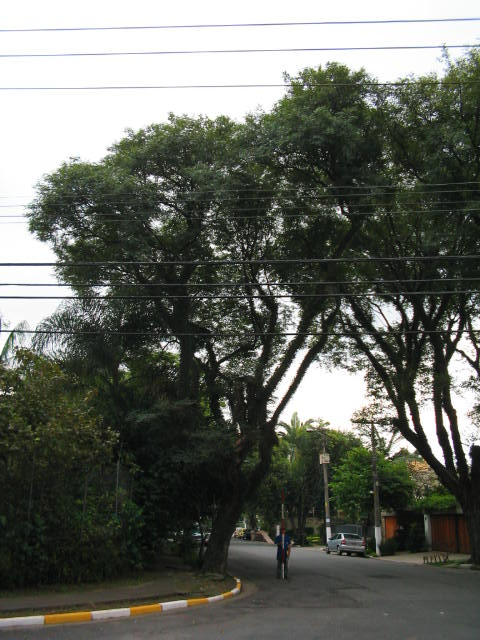crown: (24, 115, 387, 365)
stem: (198, 475, 254, 573)
stick: (278, 487, 287, 580)
tree: (21, 113, 390, 575)
